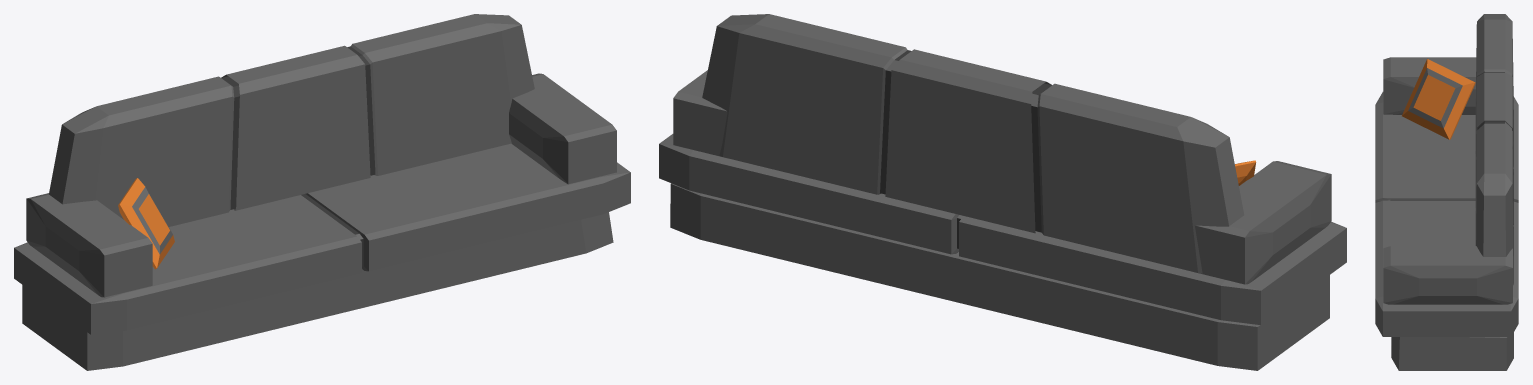
File: Couch02.fbx
3 views of the same model, side by side, from view 1: azimuth 30°, elevation 25°; view 2: azimuth 150°, elevation 25°; view 3: azimuth 270°, elevation 25° (orthographic). The views are drawn at different scales.
Visible parts, largest first — view 1: Couch02; view 2: Couch02; view 3: Couch02.
Boxes of the visible parts, left/top/right/bottom form: Couch02: left=14, top=14, right=630, bottom=370; Couch02: left=659, top=14, right=1346, bottom=370; Couch02: left=1375, top=14, right=1518, bottom=370.
Size of the model in its own units: 2.5 by 0.6881 by 0.8973.
